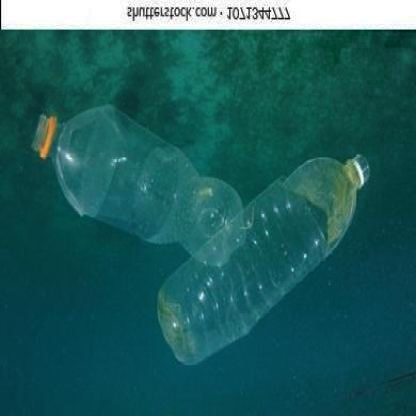pbottle: (148, 147, 379, 374), (34, 102, 250, 266)
